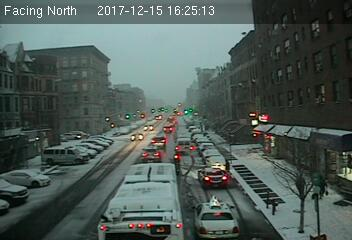bus: (97, 162, 191, 240)
car: (193, 199, 238, 239), (198, 167, 228, 189), (204, 156, 228, 169), (141, 147, 160, 161), (150, 135, 167, 146), (131, 132, 144, 141)
truck: (175, 137, 192, 152)
